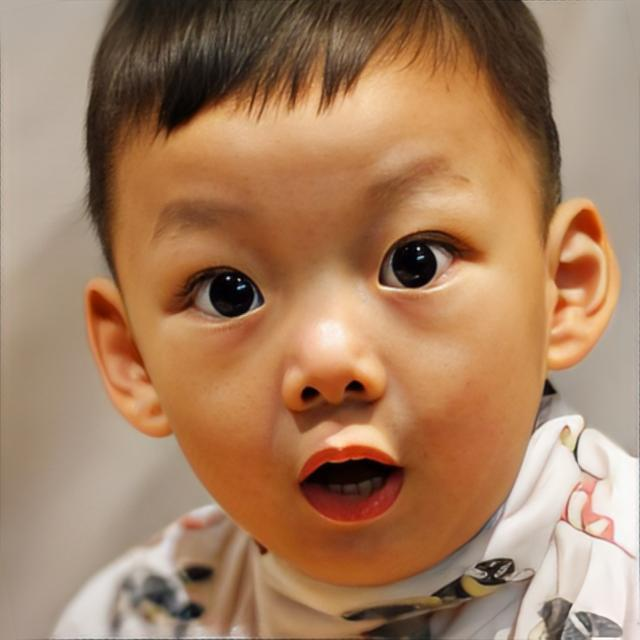surprise: (100, 2, 546, 586)
